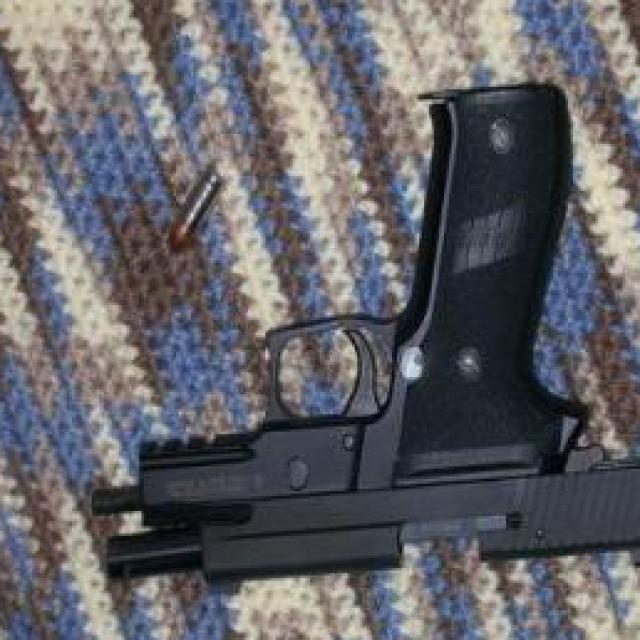pistol: (89, 72, 640, 593)
